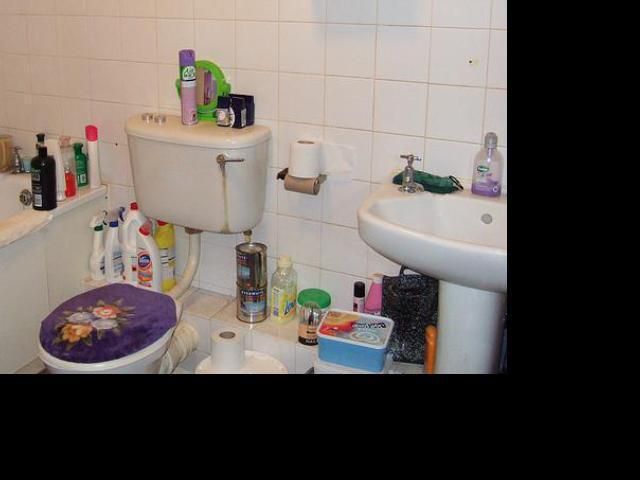Lavamanos: (358, 156, 525, 387)
